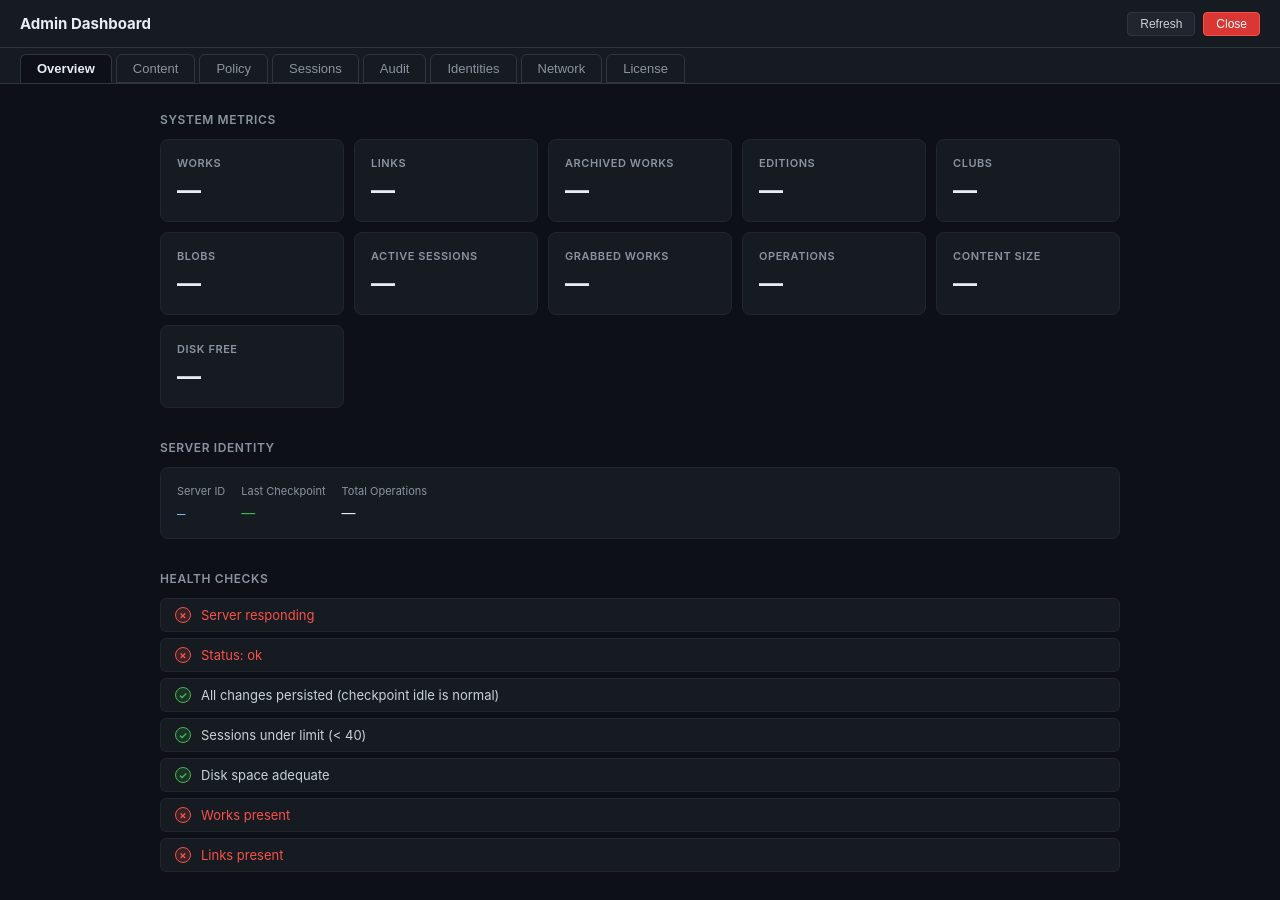
AdminDashboard — License tab (FR-156) › renders BOTH states: enabled and available-not-chosen
Step 1. Click the button "License" → (646, 68), box left=606, top=54, right=685, bottom=83
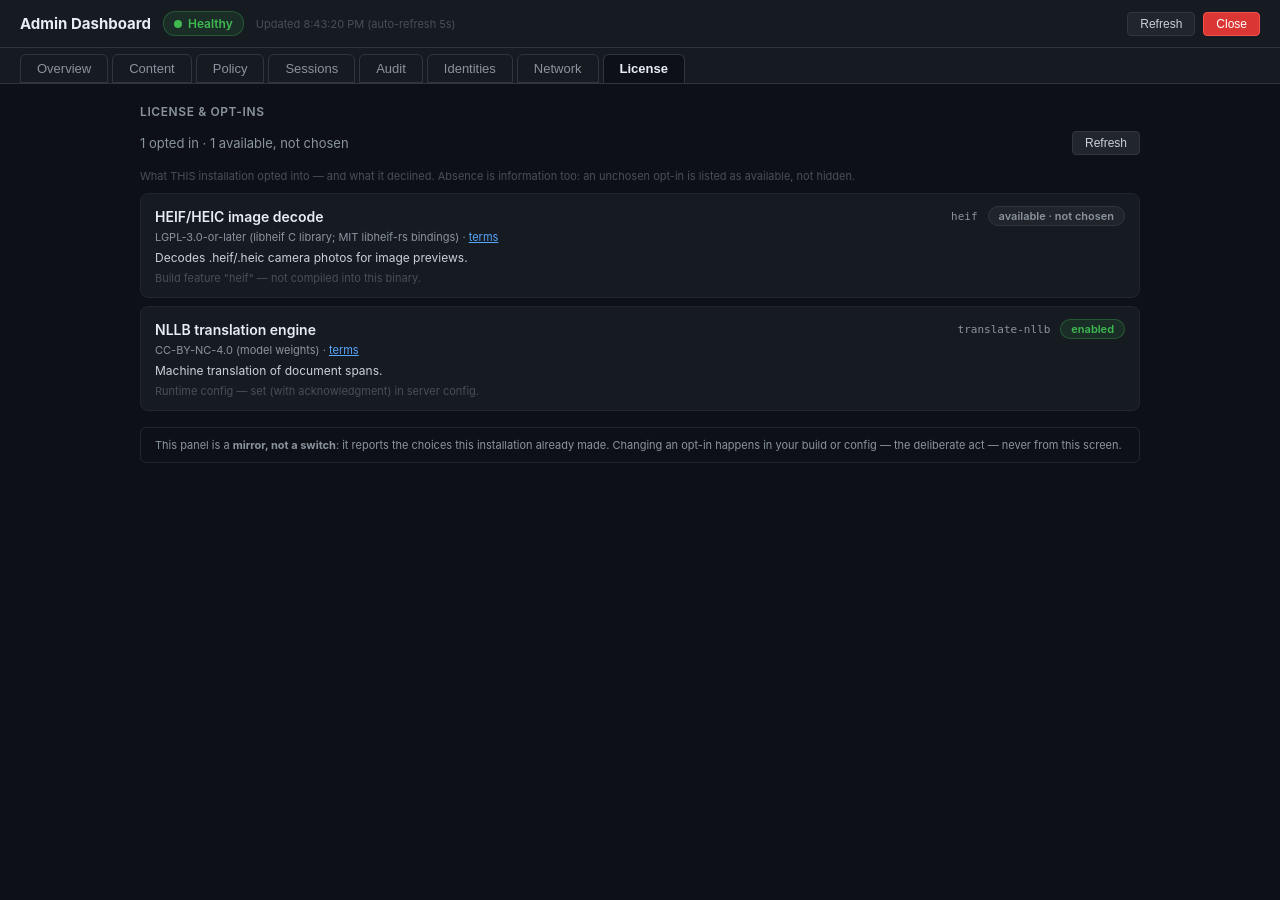
Now the text "HEIF/HEIC image decode" is shown, box left=155, top=208, right=324, bottom=224
Now the text "available · not chosen" is shown, box left=988, top=206, right=1125, bottom=226
Now the text "enabled" is shown, box left=1060, top=319, right=1125, bottom=339
